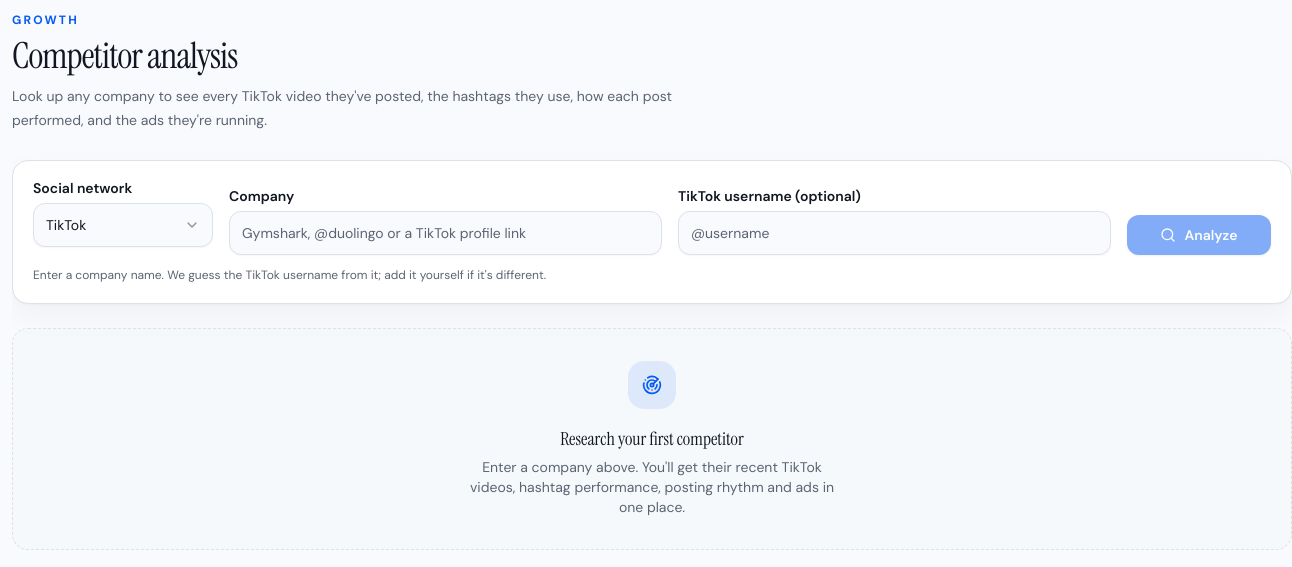
Scenario: CompetitorAnalysisView › defaults to TikTok and previews the handle it will look up
Expected: the dropdown reads "TikTok", [33,203,213,247]
Type "Blue Apron" into the field labelled "Company" at (446, 233), box [229,211,662,255]
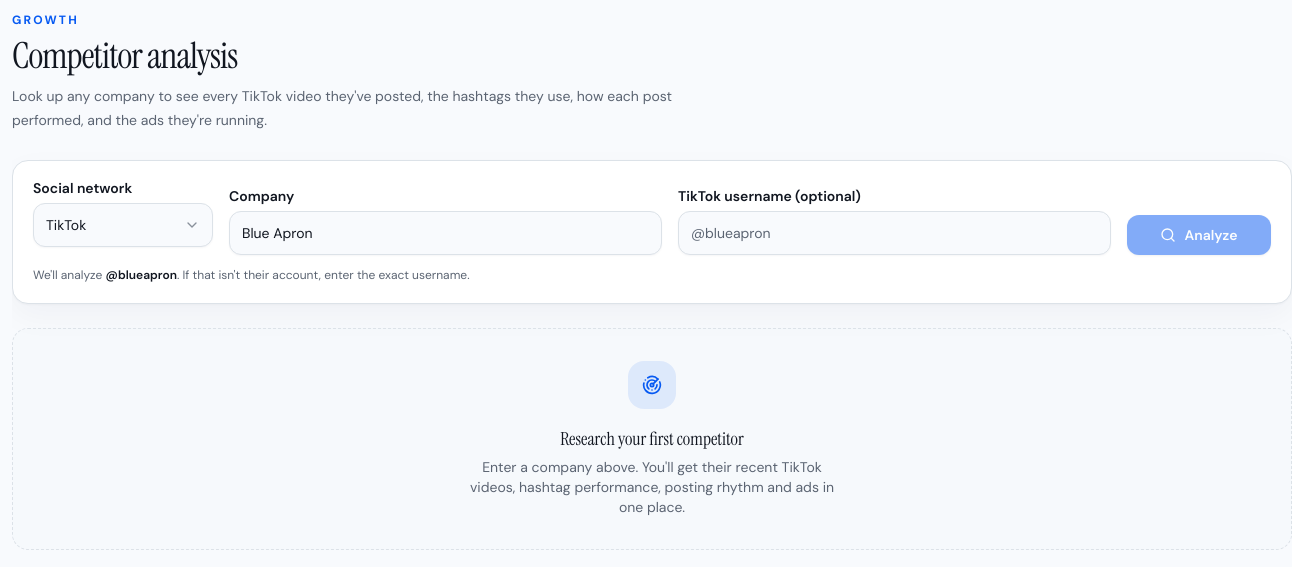
Expected: the text "@blueapron" is shown, [106,267,177,283]
Type "@blueapron_us" into the field labelled "TikTok username (optional)" at (894, 233), box [678,211,1111,255]
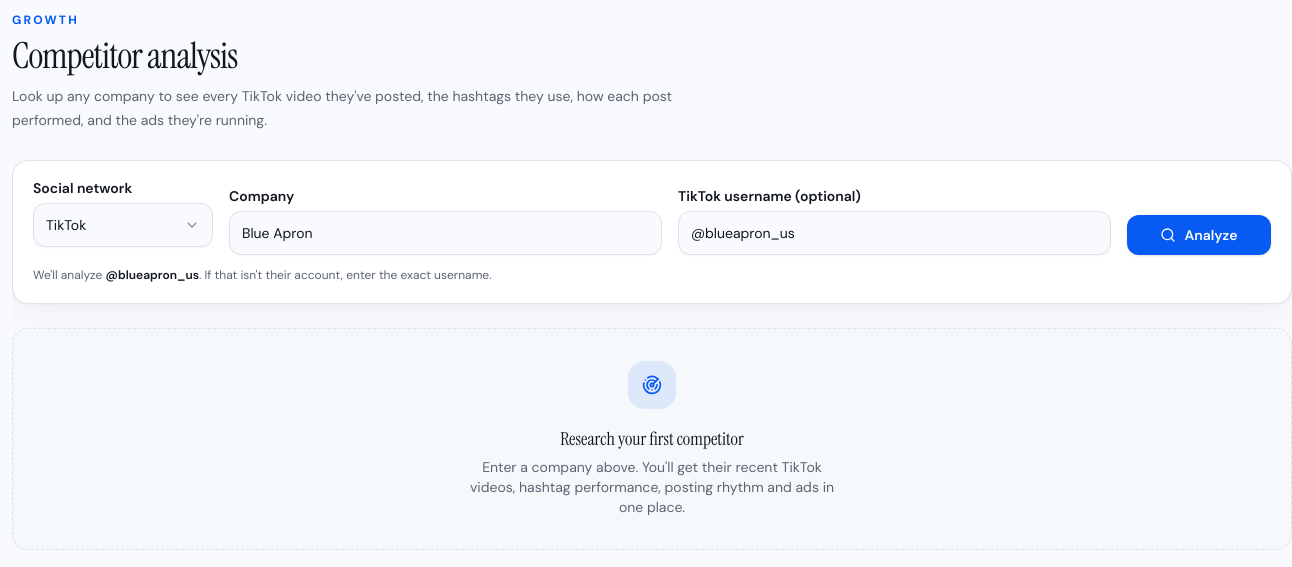
Expected: the text "@blueapron_us" is shown, [106,267,199,283]
